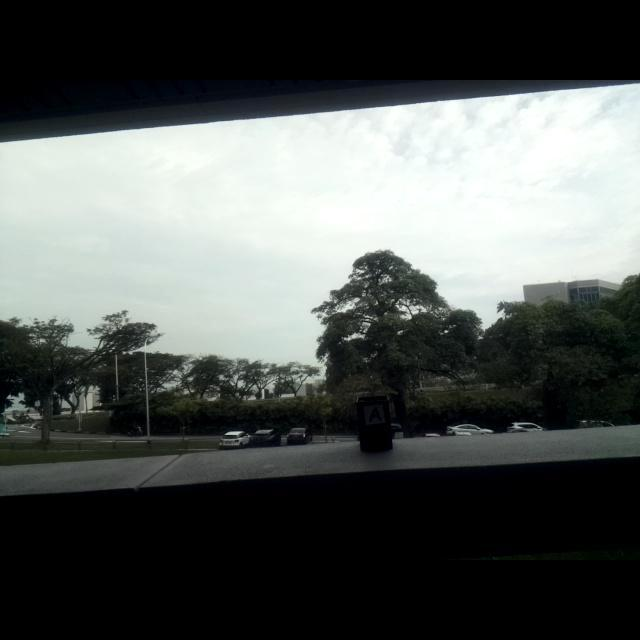A: (368, 407, 382, 424)
